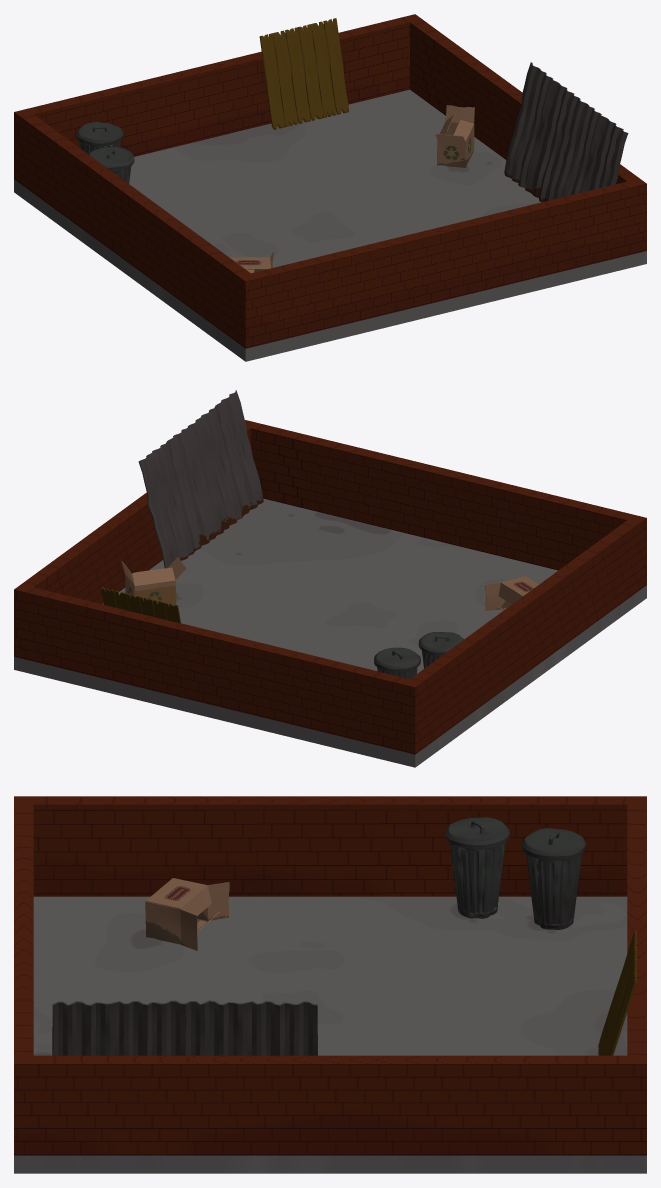
The model's file is stage1.fbx.
3 renders of one model, top to bottom at view 1: azimuth 30°, elevation 25°; view 2: azimuth 150°, elevation 25°; view 3: azimuth 270°, elevation 25°, orthographic. The views are drawn at different scales.
Parts seen in each view (by area): view 1: stage01:polySurface1; view 2: stage01:polySurface1; view 3: stage01:polySurface1.
Boxes of the visible parts, box(x1,y1,x2,y2) form: stage01:polySurface1: box(14, 14, 646, 361); stage01:polySurface1: box(14, 390, 646, 767); stage01:polySurface1: box(14, 796, 646, 1173).
Bounding box in the file's own units: 32.22 × 9.4 × 32.22.
